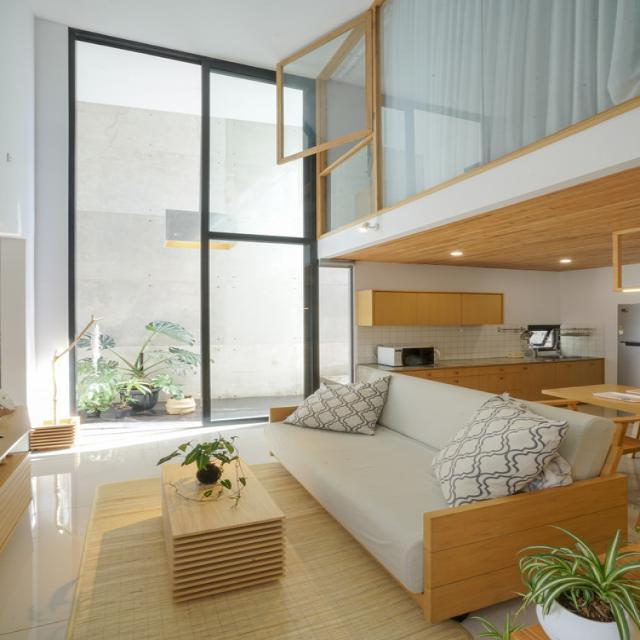couch: (263, 370, 629, 625)
